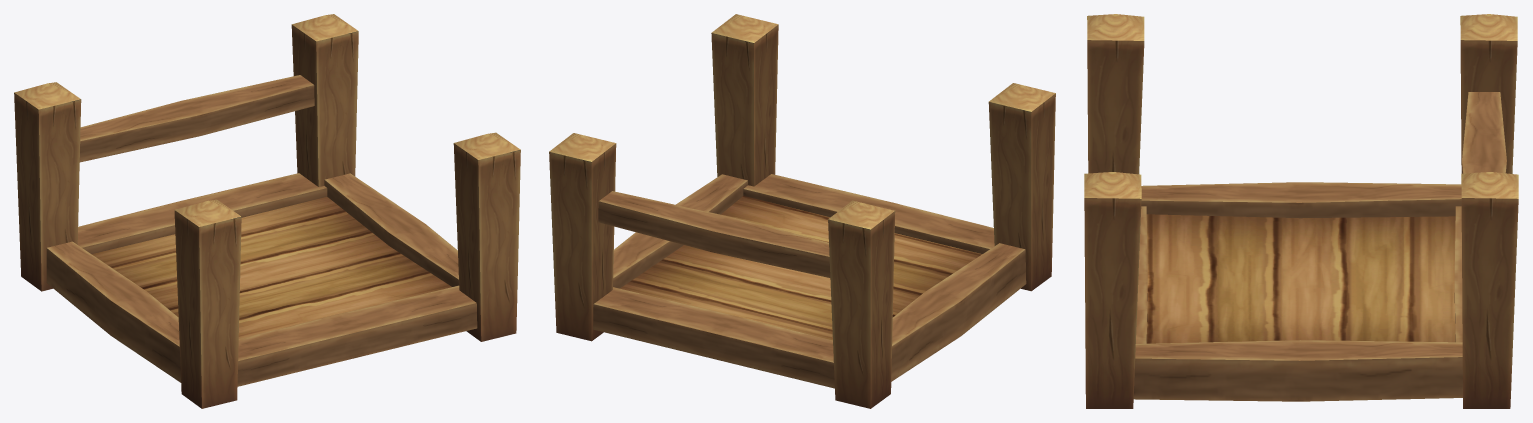
The model's file is bridge_02_tile_05.fbx.
3 views of the same model, side by side, from view 1: azimuth 30°, elevation 25°; view 2: azimuth 150°, elevation 25°; view 3: azimuth 270°, elevation 25° (orthographic). The views are drawn at different scales.
Parts seen in each view (by area): view 1: bridge_02_tile_05; view 2: bridge_02_tile_05; view 3: bridge_02_tile_05.
Boxes of the visible parts, bbox=[...] form: bridge_02_tile_05: bbox=[14, 14, 520, 408]; bridge_02_tile_05: bbox=[549, 14, 1055, 408]; bridge_02_tile_05: bbox=[1084, 14, 1518, 408].
Bounding box in the file's own units: 2.05 × 1.19 × 2.07.
